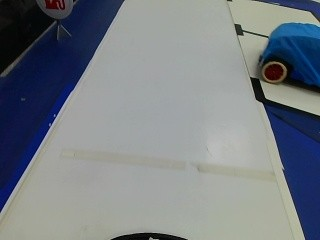car: (261, 22, 318, 91)
